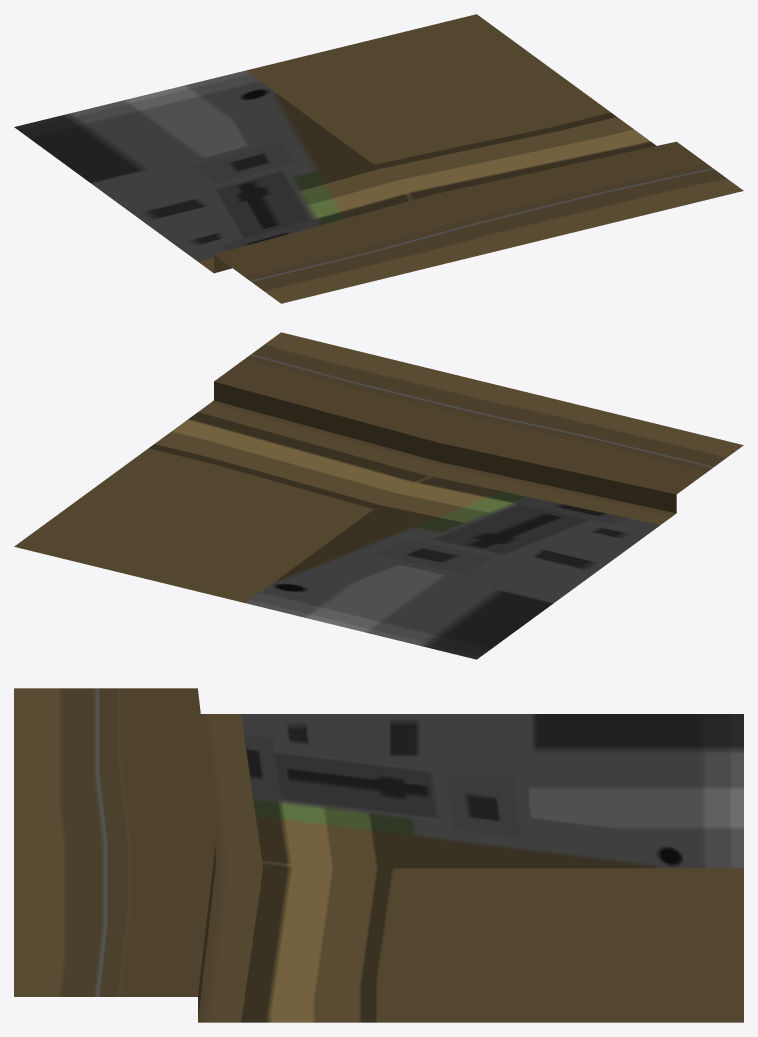
Rendered from SM_Env_Road_Asphalt_Dirt_Transition_01.gltf.
3 views of the same model, one above another, from view 1: azimuth 30°, elevation 25°; view 2: azimuth 150°, elevation 25°; view 3: azimuth 270°, elevation 25° (orthographic). The views are drawn at different scales.
Visible parts, largest first — view 1: SM_Env_Road_Asphalt_Dirt_Transition_01; view 2: SM_Env_Road_Asphalt_Dirt_Transition_01; view 3: SM_Env_Road_Asphalt_Dirt_Transition_01.
Boxes of the visible parts, left/top/right/bottom form: SM_Env_Road_Asphalt_Dirt_Transition_01: left=14, top=14, right=743, bottom=303; SM_Env_Road_Asphalt_Dirt_Transition_01: left=14, top=332, right=743, bottom=659; SM_Env_Road_Asphalt_Dirt_Transition_01: left=14, top=688, right=743, bottom=1022.
Bounding box in the file's own units: 5 × 0.1948 × 5.
Materials: 1 (1 with a texture image).
